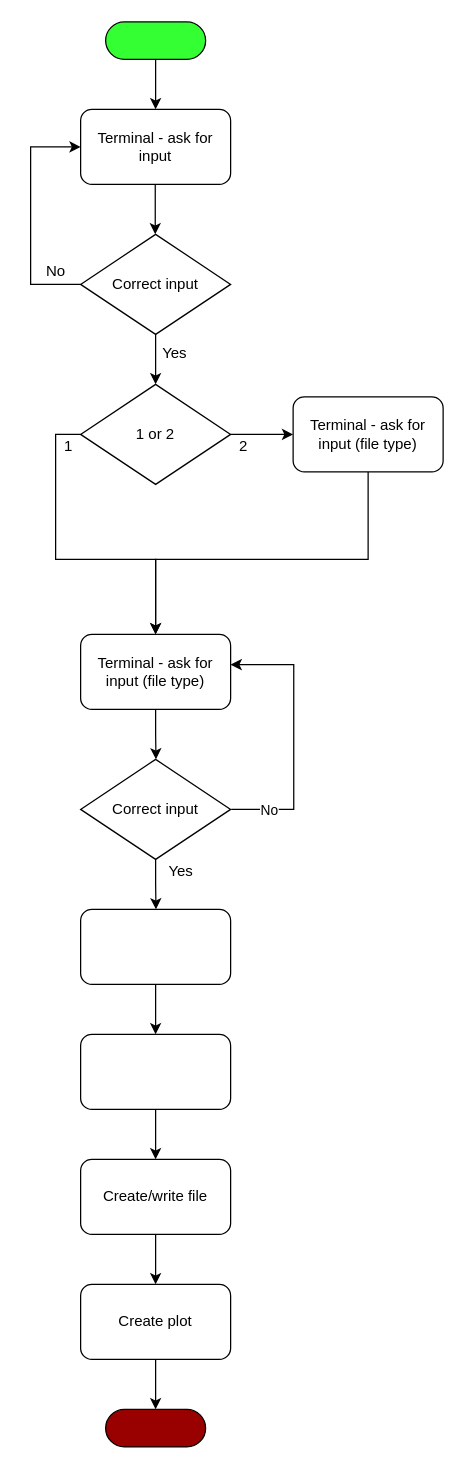
The diagram is 465 pixels wide and 1469 high, and some of its shapes have lost their labels. The box of each missing label's shape, as (x1, y1, x2, y2) in pixels:
API call: (79, 1033, 231, 1109)
End: (104, 1408, 206, 1447)
Start: (104, 21, 206, 59)
Terminal - ask for input (file name): (79, 908, 231, 984)
